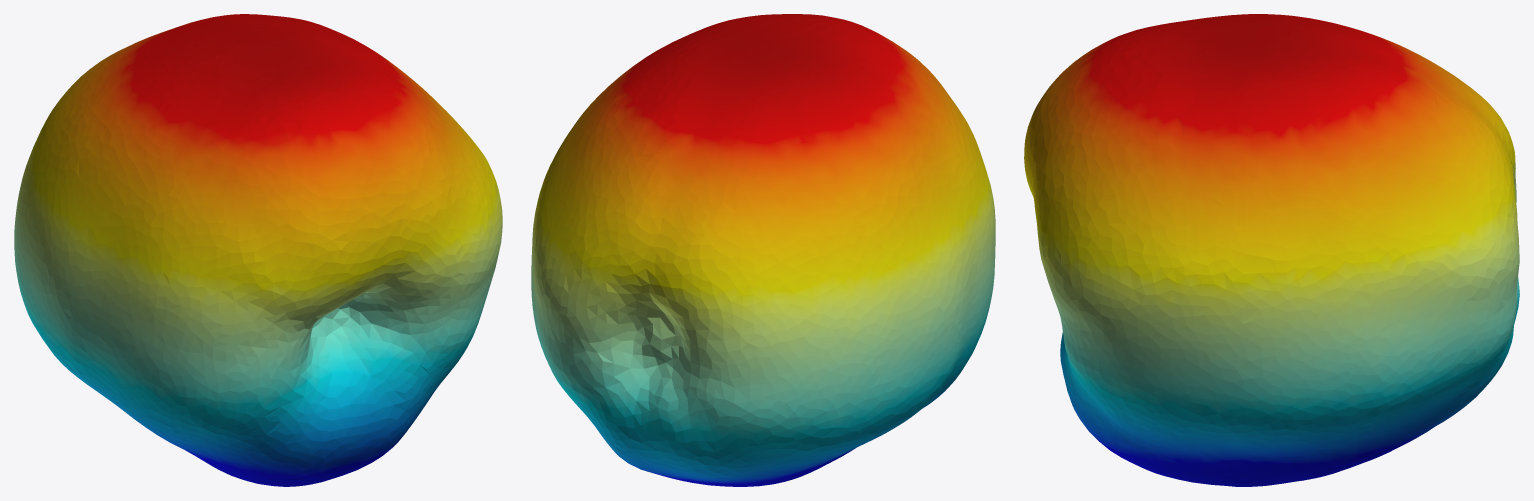
Rendered from apple_ours_poisson.glb.
3 views of the same model, side by side, from view 1: azimuth 30°, elevation 25°; view 2: azimuth 150°, elevation 25°; view 3: azimuth 270°, elevation 25° (orthographic). The views are drawn at different scales.
Visible parts, largest first — view 1: Apple.obj; view 2: Apple.obj; view 3: Apple.obj.
Boxes of the visible parts, x1,y1,x2,y2 form: Apple.obj: (14, 14, 502, 486); Apple.obj: (531, 14, 995, 486); Apple.obj: (1024, 14, 1519, 486).
Bounding box in the file's own units: 1.73 × 1.71 × 1.81.
